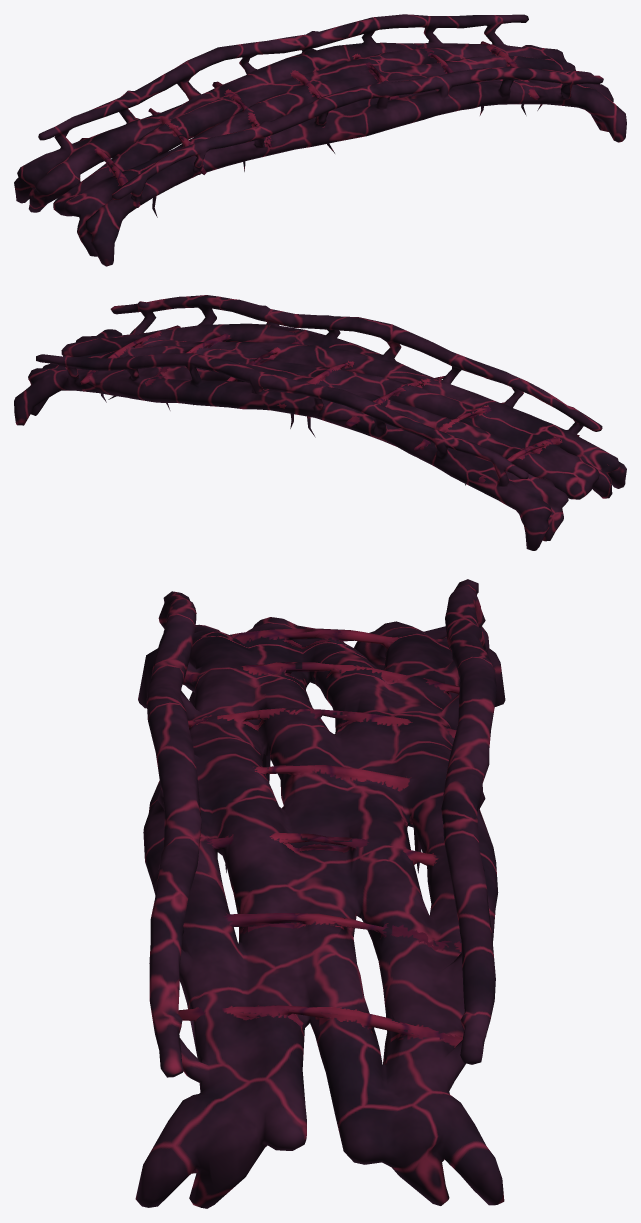
File: puente_raices.fbx
3 renders of one model, top to bottom at view 1: azimuth 30°, elevation 25°; view 2: azimuth 150°, elevation 25°; view 3: azimuth 270°, elevation 25°, orthographic. The views are drawn at different scales.
Parts seen in each view (by area): view 1: puente; view 2: puente; view 3: puente.
Boxes of the visible parts, x1,y1,x2,y2 form: puente: [14, 14, 626, 266]; puente: [14, 295, 626, 550]; puente: [135, 579, 505, 1208].
Size of the model in its own units: 10 by 2 by 3.01.
Materials: 1 (1 with a texture image).
